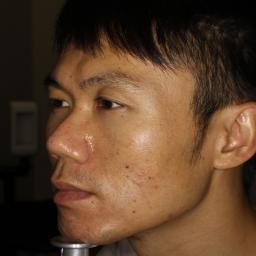ance: (120, 160, 138, 174), (142, 170, 158, 184), (149, 181, 163, 195), (109, 192, 119, 210), (164, 207, 176, 221), (106, 208, 118, 220), (130, 194, 138, 206)
